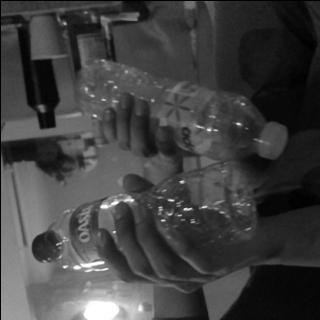plastic_bottles: (28, 158, 256, 266), (72, 52, 288, 166)
